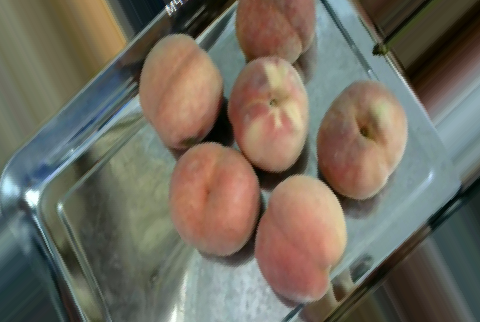Peach: (253, 176, 347, 301), (315, 80, 407, 197), (169, 143, 258, 257), (140, 33, 220, 149), (230, 55, 307, 171), (235, 1, 316, 68)
